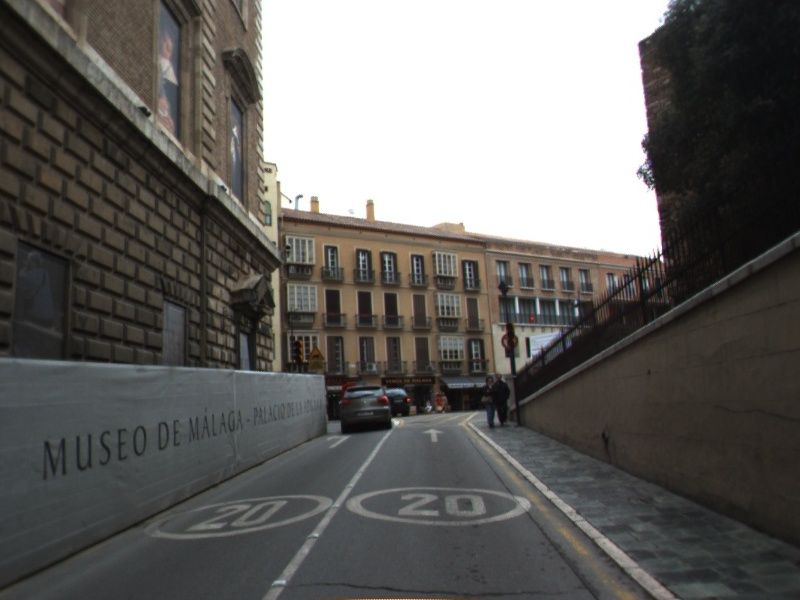LEFT: (325, 433, 353, 450)
STRAIGHT: (419, 426, 447, 444)
